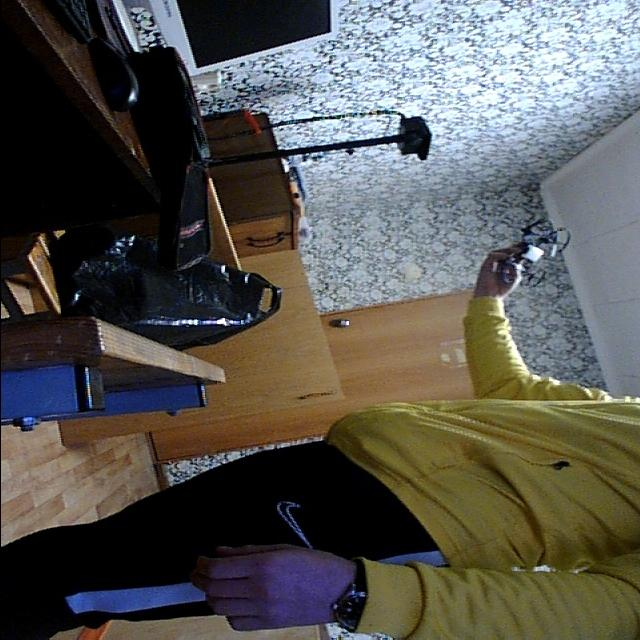drone: (494, 211, 580, 294)
